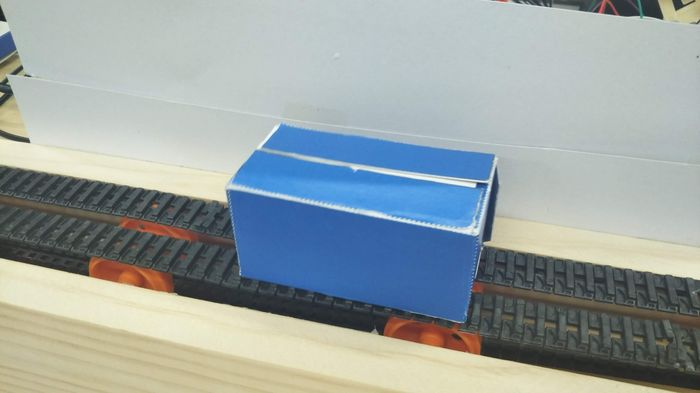box3: (222, 118, 498, 323)
